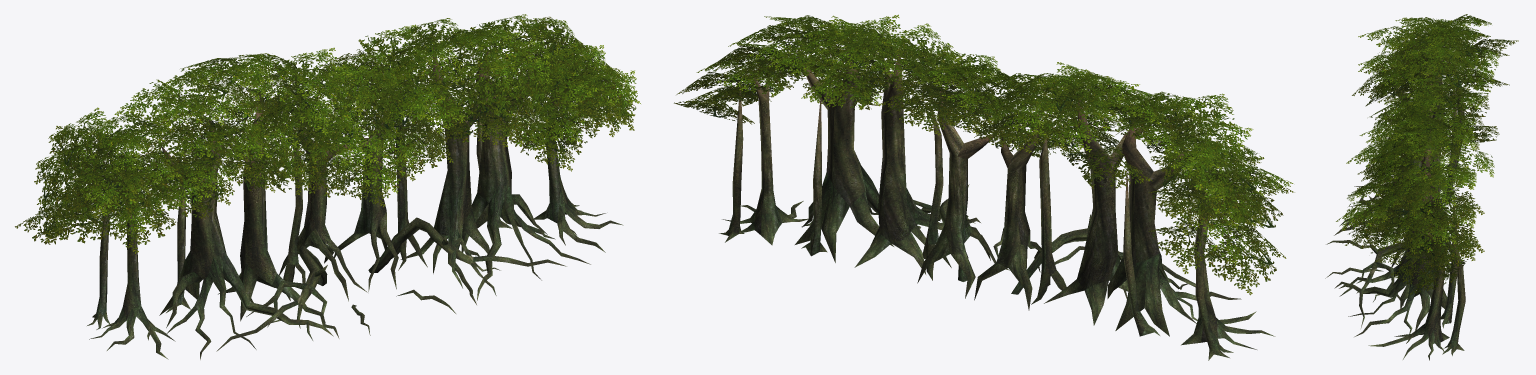
Rendered from Tree03.FBX.
3 views of the same model, side by side, from view 1: azimuth 30°, elevation 25°; view 2: azimuth 150°, elevation 25°; view 3: azimuth 270°, elevation 25° (orthographic). The views are drawn at different scales.
Visible parts, largest first — view 1: Tree03; view 2: Tree03; view 3: Tree03.
Boxes of the visible parts, x1,y1,x2,y2 form: Tree03: (15,14,640,359); Tree03: (674,14,1294,360); Tree03: (1325,14,1518,360).
Bounding box in the file's own units: 2107 × 816 × 767.
